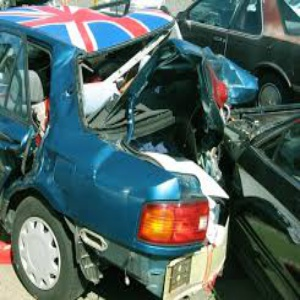tail_lights: (135, 194, 219, 247)
